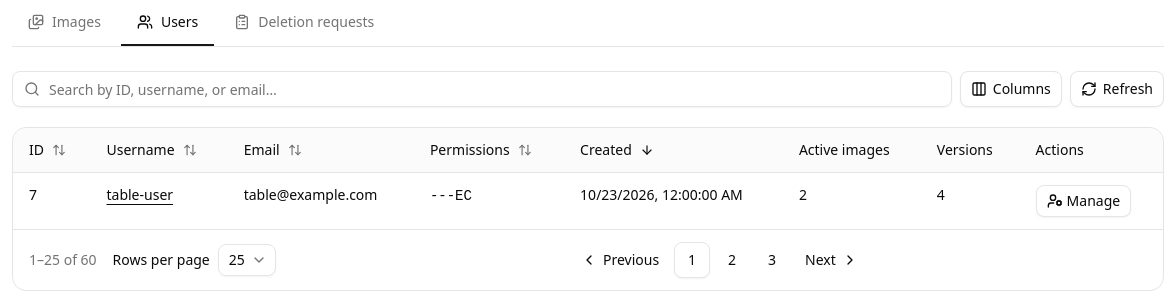
Test: admin tables › hides stale data and refreshes identity on HTTP 401
Expected: the link "table-user" is shown, [106,185,173,204]
Click the button with aria-label "Refresh users" at (1117, 89), box [1070,71,1164,107]
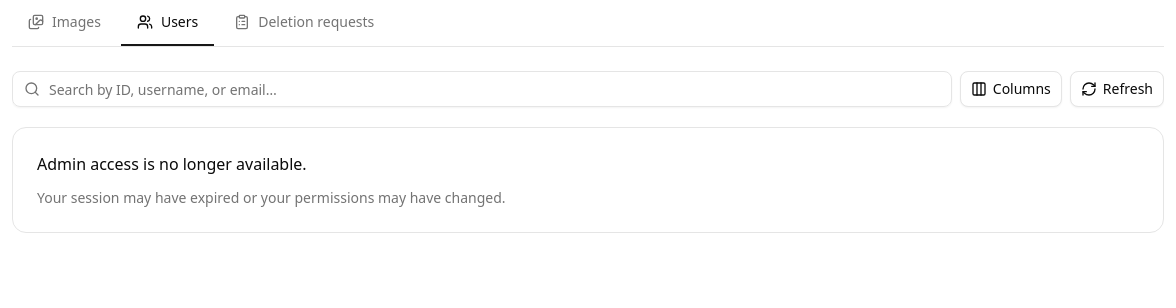
Expected: the text "Admin access is no longer available." is shown, [37,153,307,175]
Expected: the link "table-user" is gone
